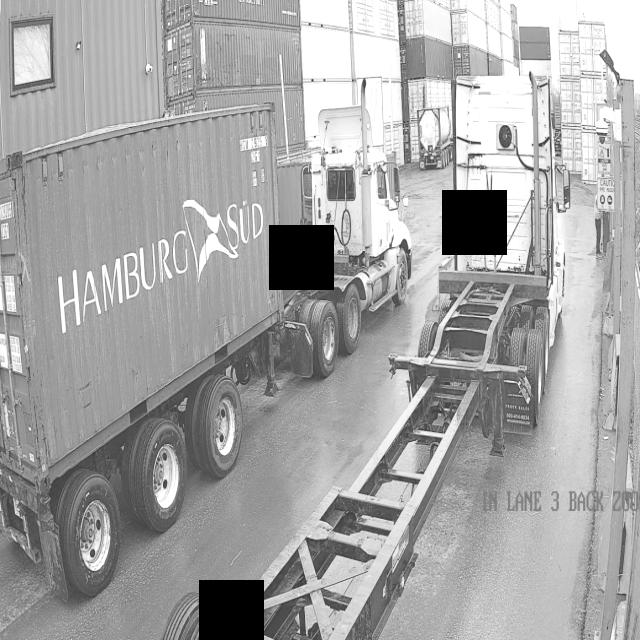container_company_logo: (53, 179, 267, 348)
truck_with_container: (0, 103, 412, 600)
truck_without_container: (161, 76, 570, 640)
